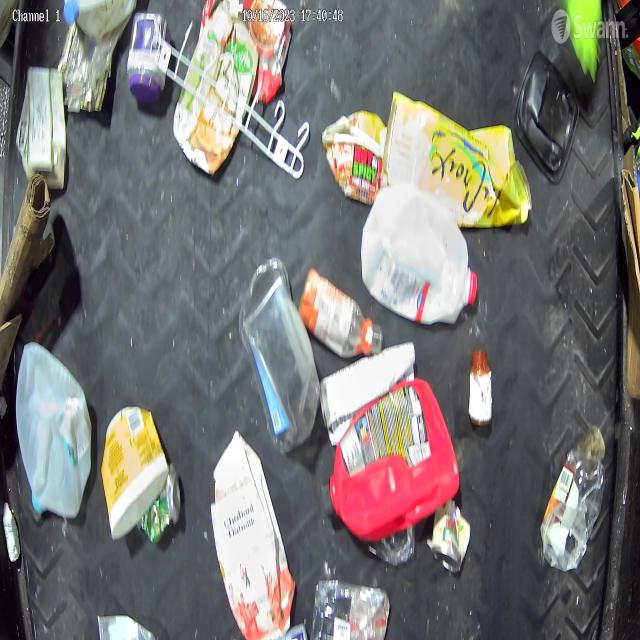can: (138, 470, 180, 542)
milk_jug: (364, 184, 474, 326), (16, 339, 94, 520)
non_white_jug: (330, 378, 460, 540)
plastic_bottle: (534, 427, 611, 573), (300, 261, 385, 350)
